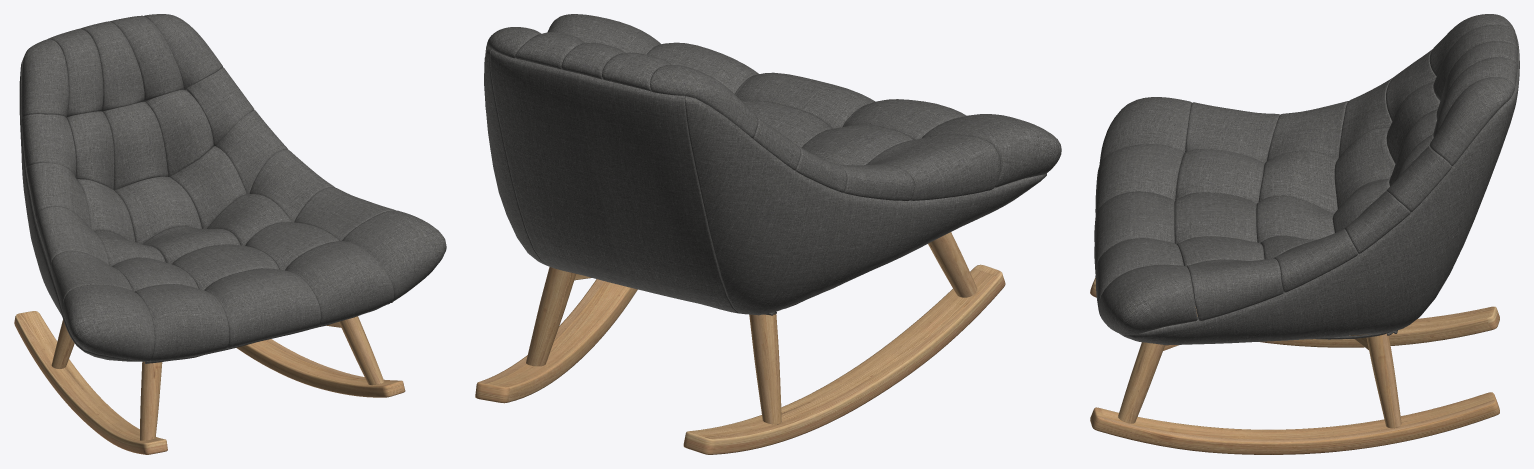
3 renders of one model, left to right at view 1: azimuth 30°, elevation 25°; view 2: azimuth 150°, elevation 25°; view 3: azimuth 270°, elevation 25°, orthographic. The views are drawn at different scales.
Parts seen in each view (by area): view 1: Kolton_Rocking_Chair; view 2: Kolton_Rocking_Chair; view 3: Kolton_Rocking_Chair.
Part boxes in pixels (bbox=[...]): Kolton_Rocking_Chair: bbox=[14, 14, 446, 454]; Kolton_Rocking_Chair: bbox=[475, 14, 1061, 454]; Kolton_Rocking_Chair: bbox=[1090, 14, 1519, 454].
Size of what is drawn, in the model's own units: 114 by 88.12 by 98.89.
Materials: 2 (2 with a texture image).
